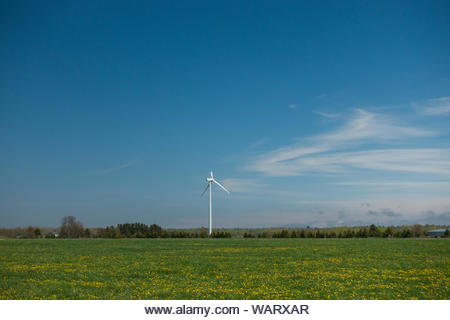faulty: (191, 164, 237, 242)
